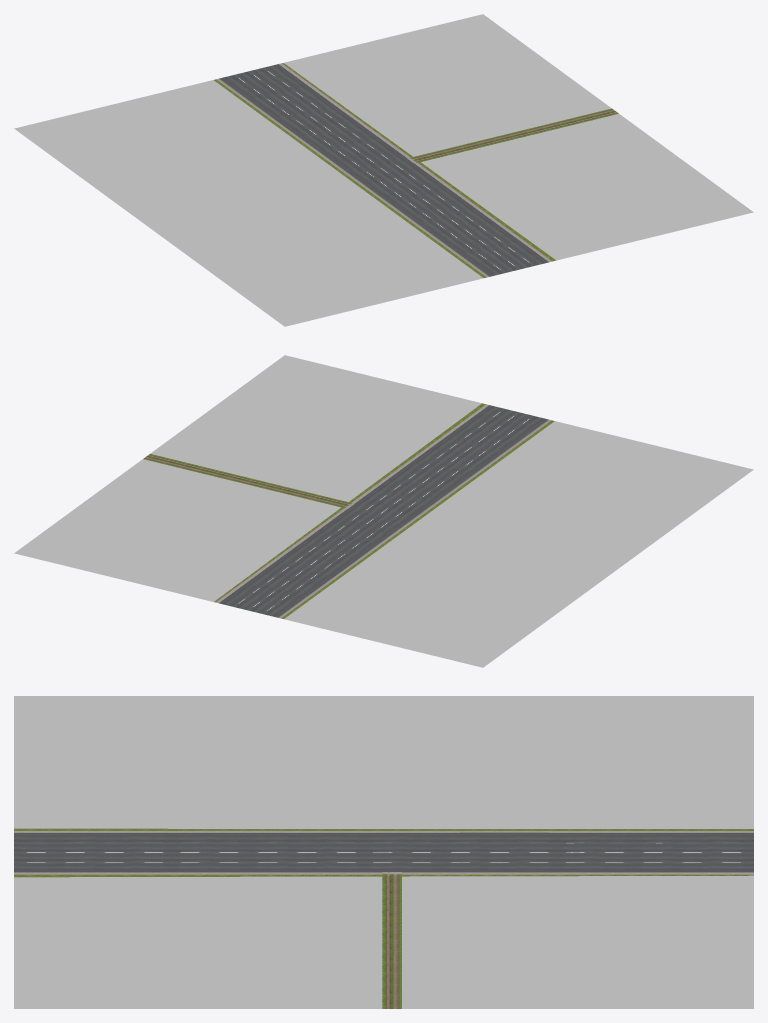
File: road7.FBX
3 renders of one model, top to bottom at view 1: azimuth 30°, elevation 25°; view 2: azimuth 150°, elevation 25°; view 3: azimuth 270°, elevation 25°, orthographic. The views are drawn at different scales.
Visible parts, largest first — view 1: road; view 2: road; view 3: road.
Boxes of the visible parts, left/top/right/bottom form: road: left=14, top=14, right=753, bottom=326; road: left=14, top=355, right=753, bottom=667; road: left=14, top=696, right=753, bottom=1008.
Size of the model in its own units: 12000 by 0.00211 by 12000.
